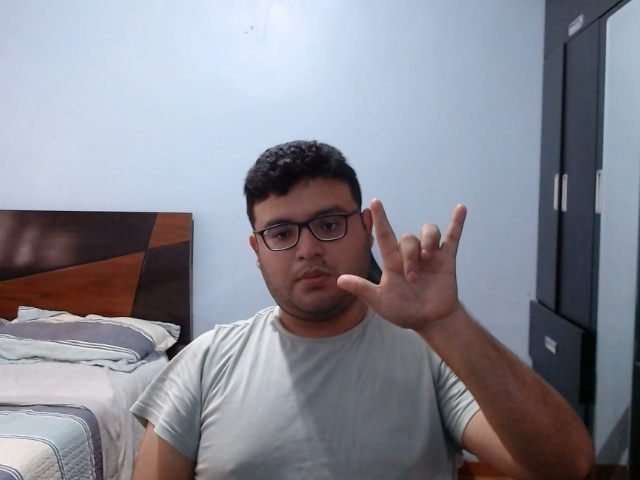I love you: (334, 193, 473, 335)
